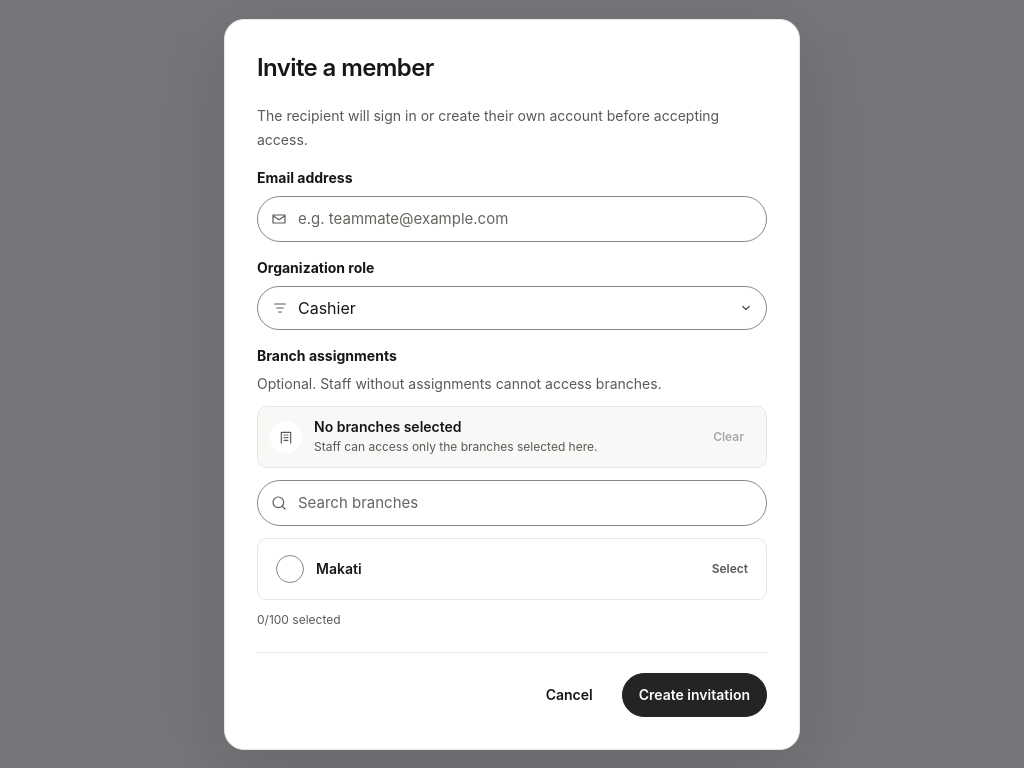
Scenario: merchant invitations inherit profile branches without individual grants
The width and height of the screenshot is (1024, 768).
Expected: the button "Makati Select" is shown, [264,544,760,592]
Step 1. Type "merchant@example.test" into the field labelled "Email address" → {"x": 512, "y": 218}, box [257,196,767,242]
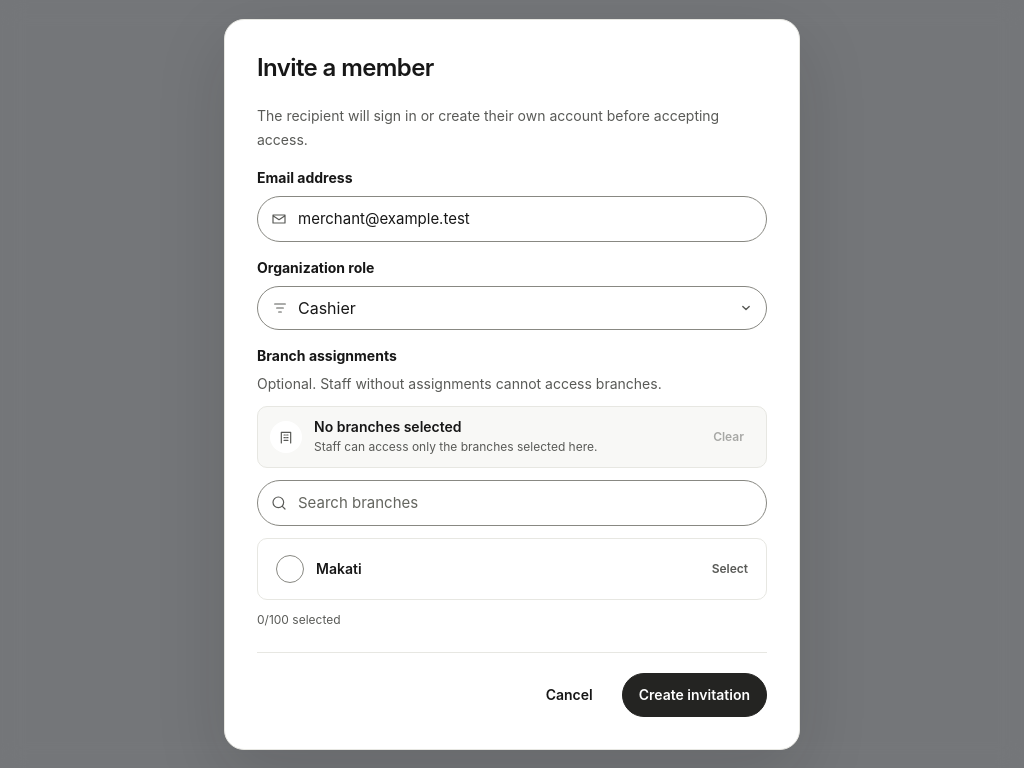
Step 2. Click the dropdown named "Organization role" → {"x": 327, "y": 308}, box [257,286,767,330]
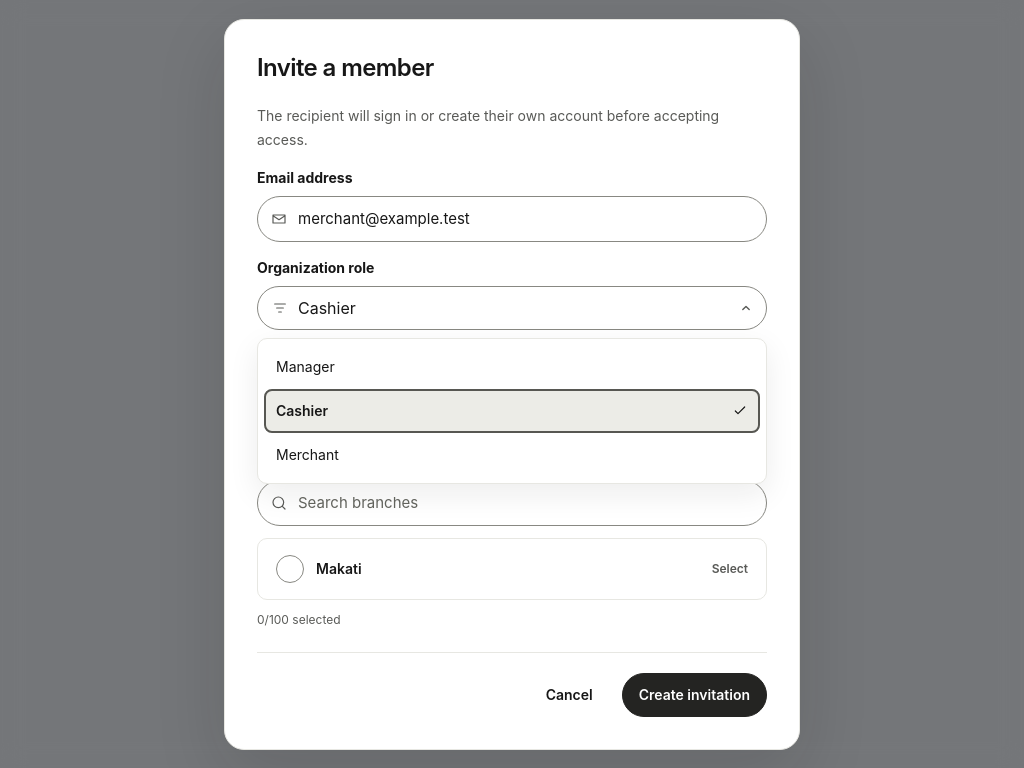
Step 3. Click the option "Merchant" → {"x": 307, "y": 454}, box [264,432,760,476]
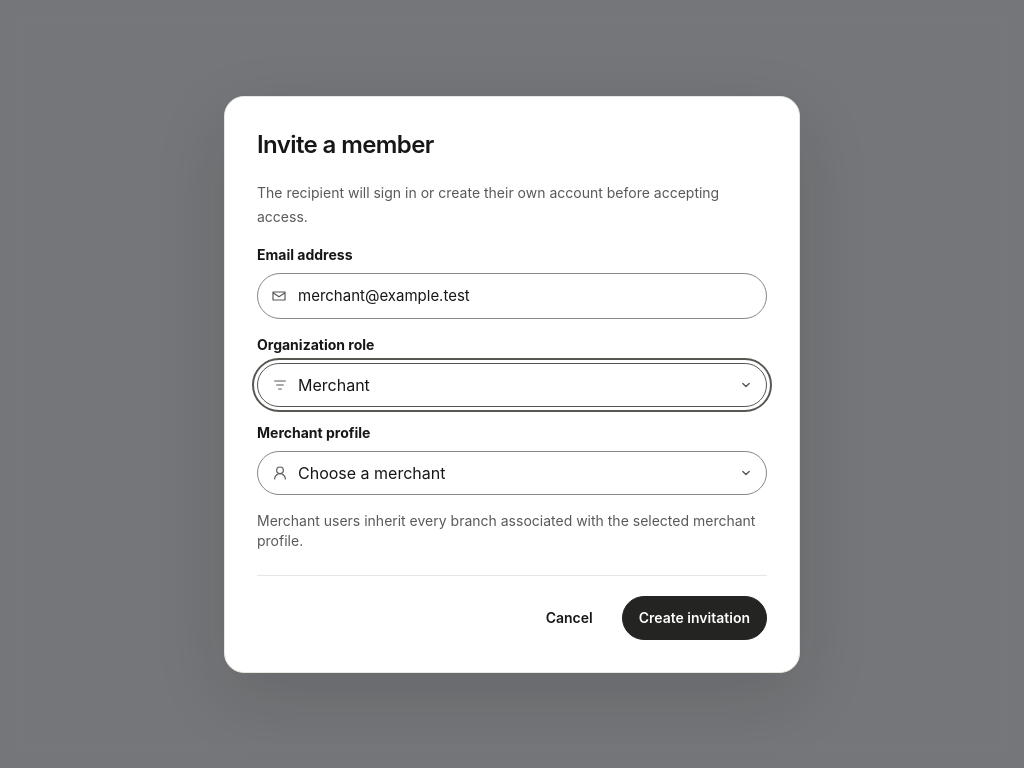
Step 4. Click the dropdown named "Merchant profile" → {"x": 372, "y": 472}, box [257,450,767,494]
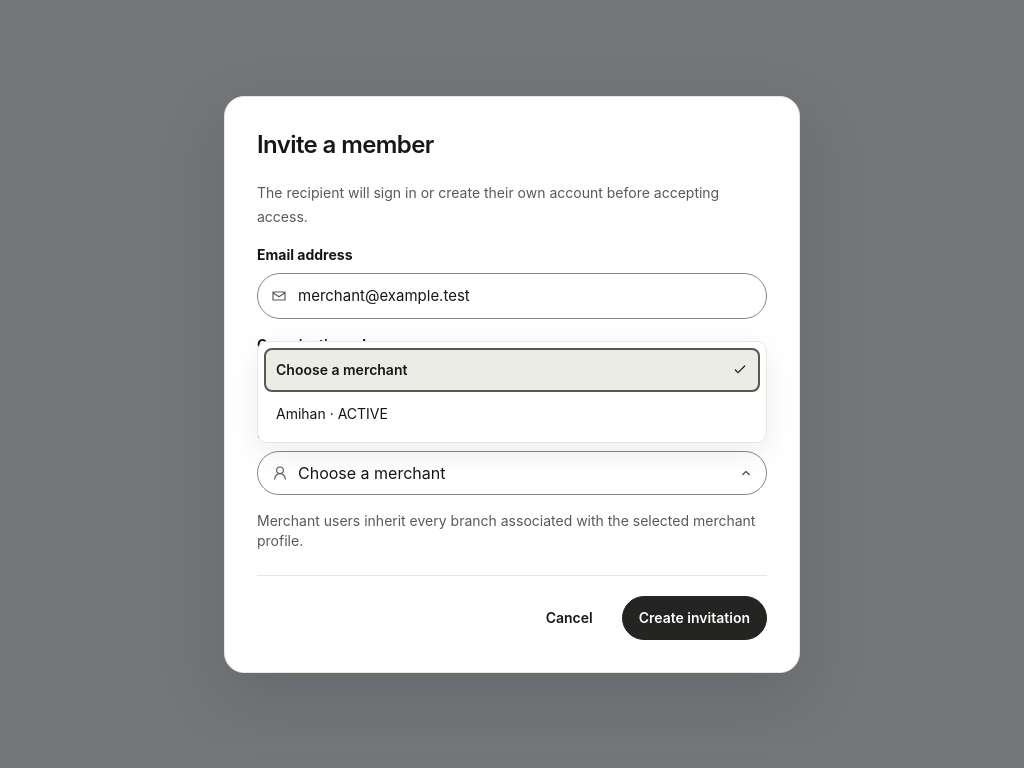
Step 5. Click the option "Amihan · ACTIVE" → {"x": 332, "y": 413}, box [264,392,760,436]
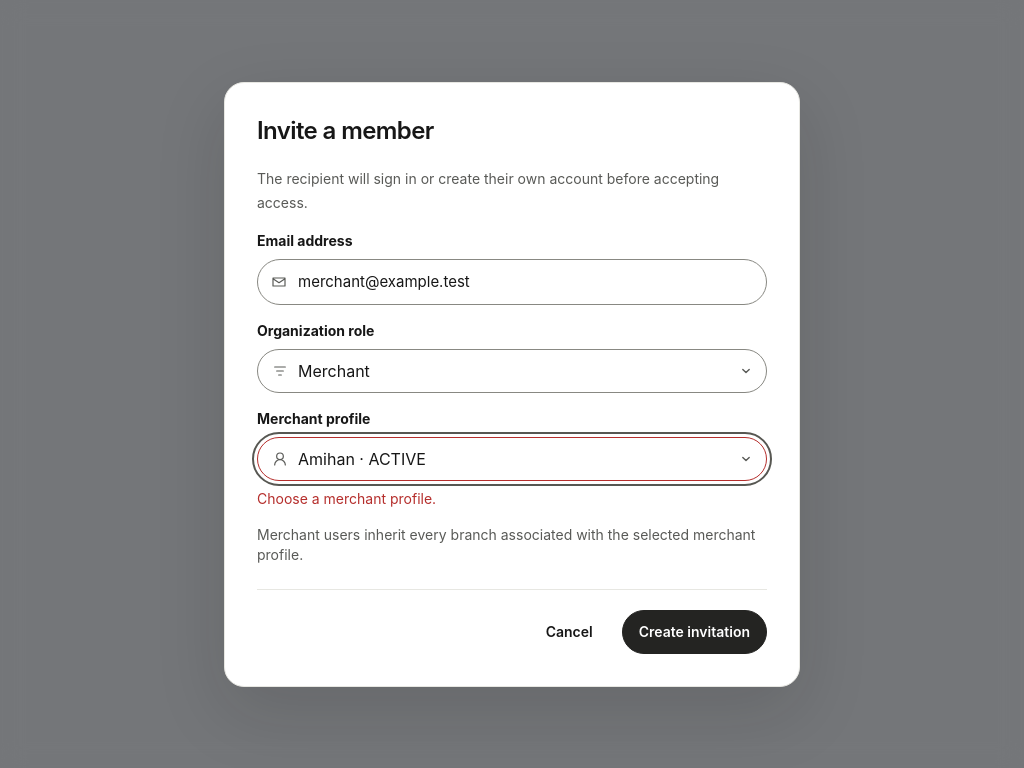
Expected: the button "Makati" is not shown
Step 6. Click the button "Create invitation" → {"x": 694, "y": 632}, box [622,610,767,654]
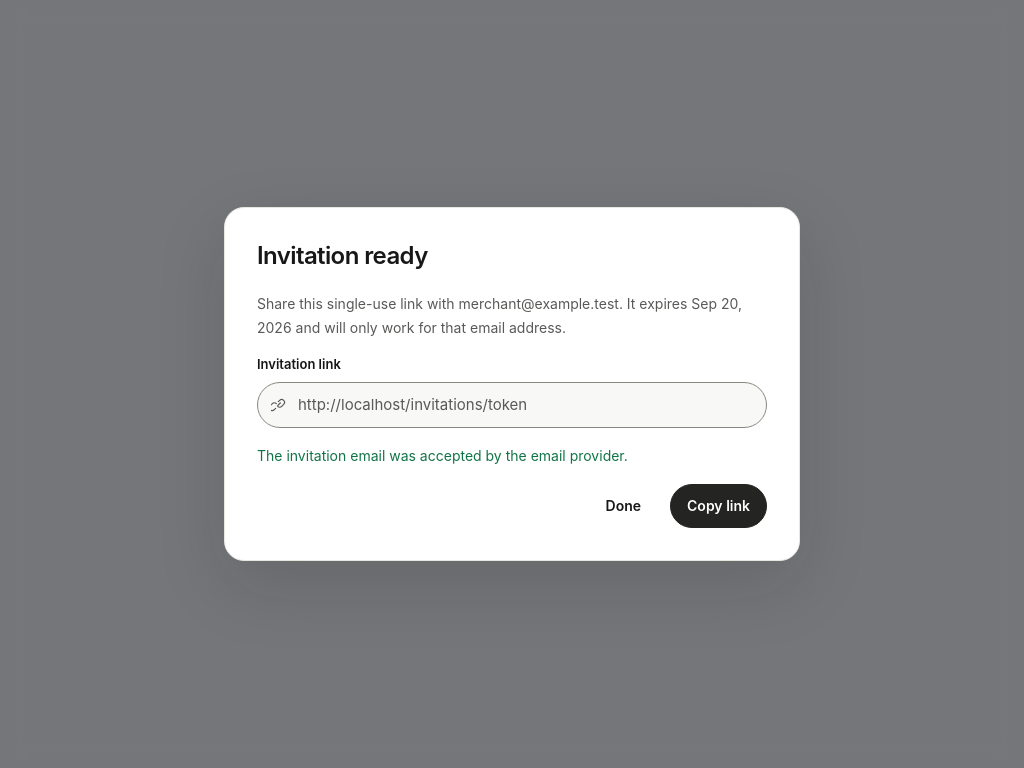
Expected: the heading "Invitation ready" is shown, [257,240,428,272]
